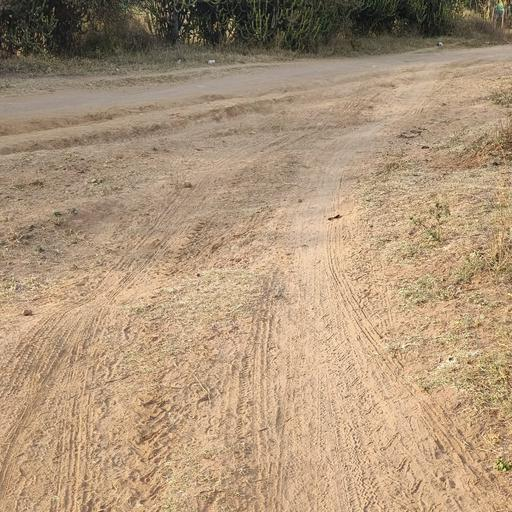vehicle_track: (0, 130, 314, 512), (273, 65, 512, 512), (0, 52, 452, 119)
